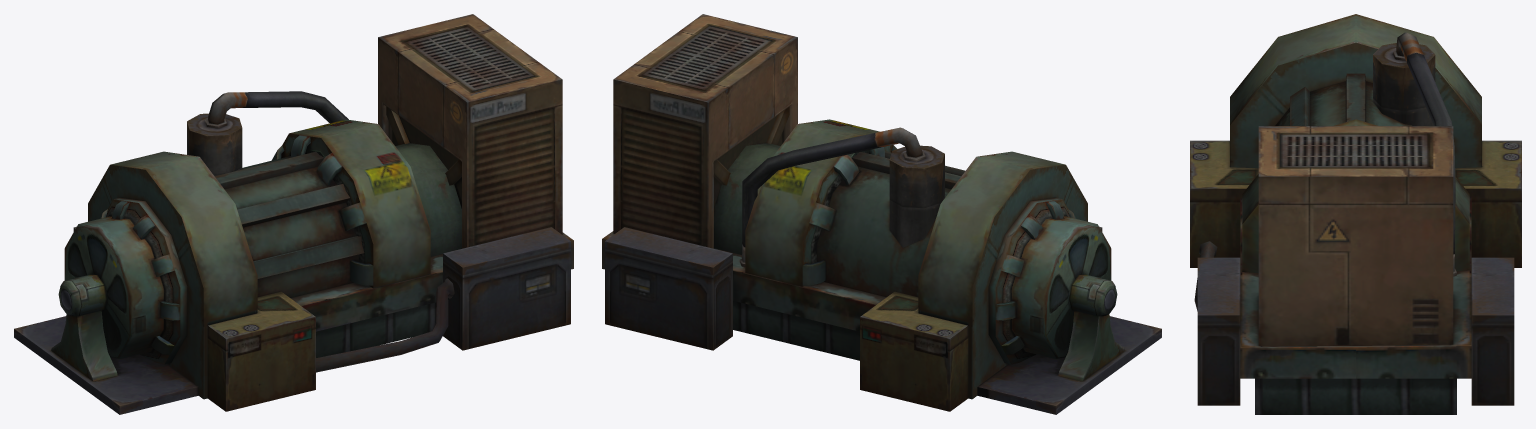
The model's file is mf_elctricgenerator003.FBX.
3 views of the same model, side by side, from view 1: azimuth 30°, elevation 25°; view 2: azimuth 150°, elevation 25°; view 3: azimuth 270°, elevation 25° (orthographic). The views are drawn at different scales.
Visible parts, largest first — view 1: mf_elctricgenerator003; view 2: mf_elctricgenerator003; view 3: mf_elctricgenerator003.
Boxes of the visible parts, <box> form: mf_elctricgenerator003: <box>14,14,573,414</box>; mf_elctricgenerator003: <box>602,14,1161,414</box>; mf_elctricgenerator003: <box>1190,14,1521,414</box>.
Size of the model in its own units: 4.24 by 1.97 by 2.46.
1 material, 1 textured.
